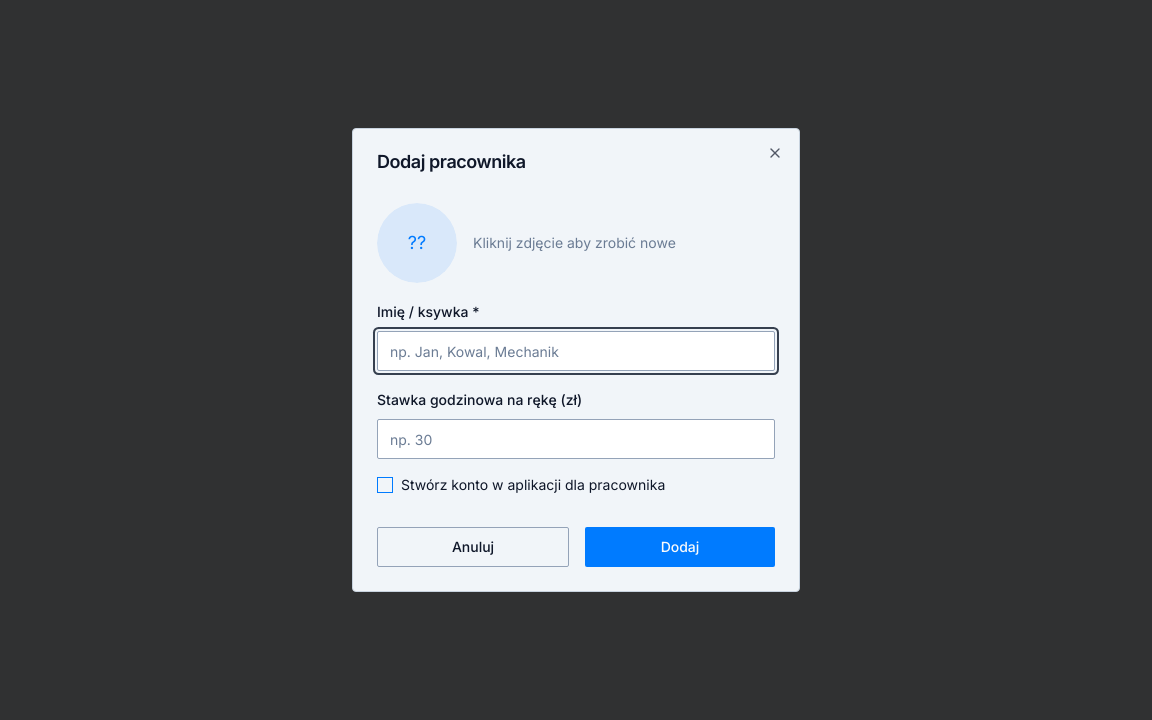
Test: AddEditEmployeeDialog — create employee › account creation › shows account fields when checkbox is checked
Expected: the field labelled "Nazwa użytkownika *" is not shown
Click the checkbox named "Stwórz konto w aplikacji dla pracownika": click(385, 485) x1=377 y1=477 x2=393 y2=493
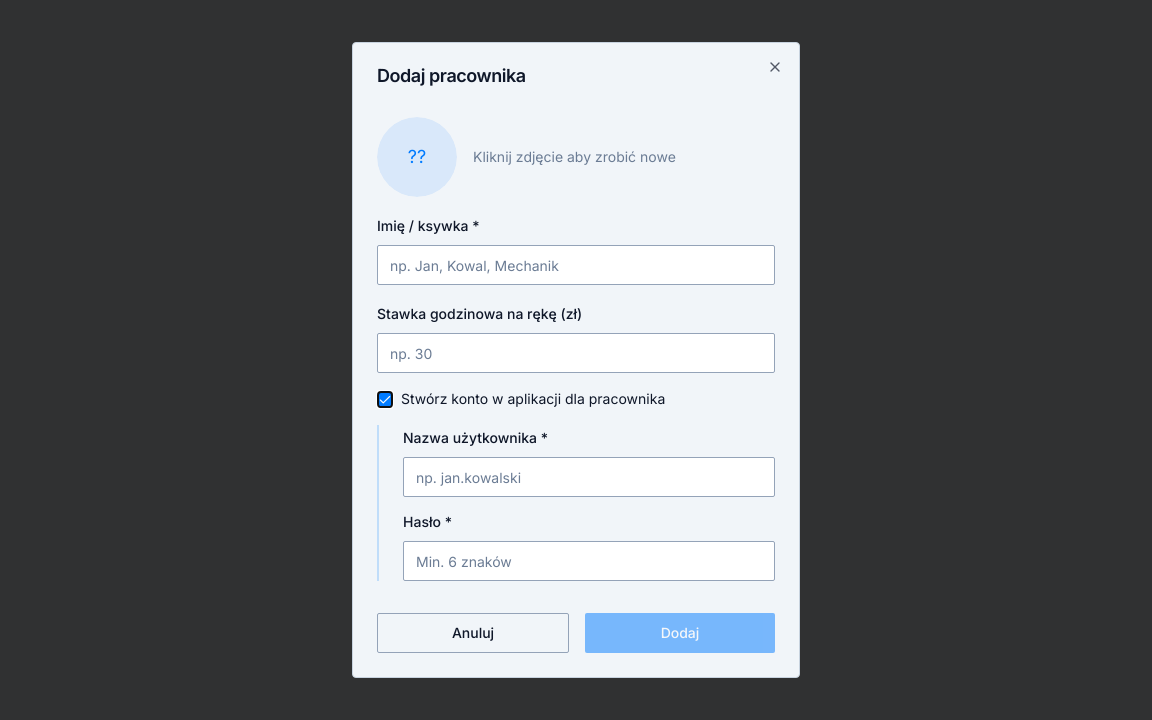
Expected: the field labelled "Nazwa użytkownika *" is shown, x1=403 y1=457 x2=775 y2=497
Expected: the password field labelled "Hasło *" is shown, x1=403 y1=541 x2=775 y2=581
